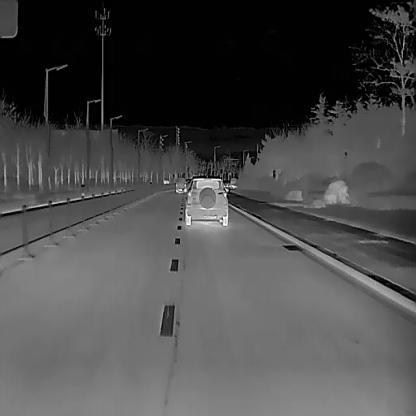car: (184, 175, 227, 225), (175, 176, 186, 192), (163, 179, 169, 184)
